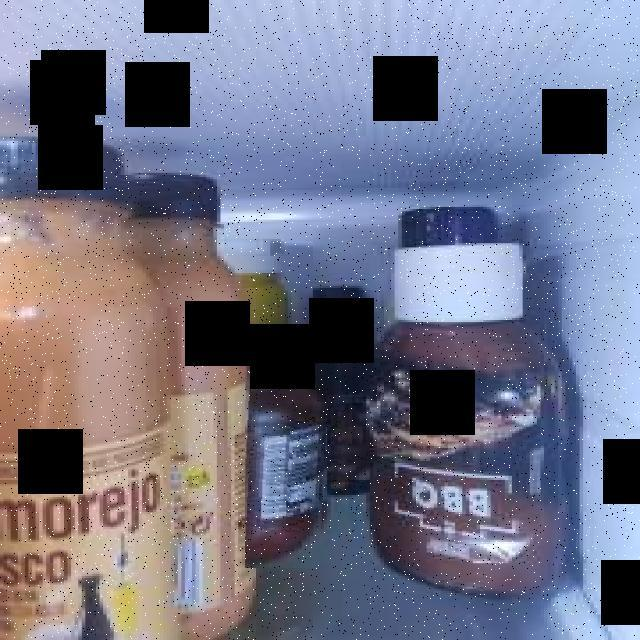tomato_sauce: (245, 332, 331, 568)
